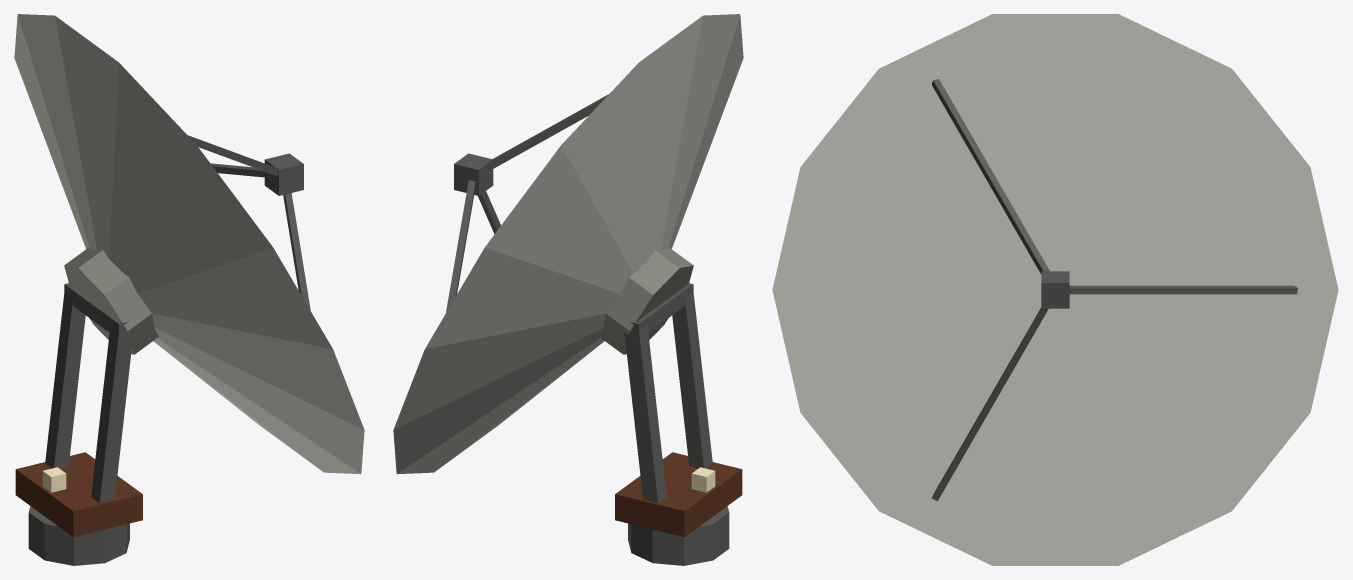
The model's file is radar_dish.glb.
3 renders of one model, left to right at view 1: azimuth 30°, elevation 25°; view 2: azimuth 150°, elevation 25°; view 3: azimuth 270°, elevation 25°, orthographic.
Visible parts, largest first — view 1: radar_dish; view 2: radar_dish; view 3: radar_dish.
Part boxes in pixels (<box>): radar_dish: <box>14,14,364,565</box>; radar_dish: <box>393,14,743,565</box>; radar_dish: <box>772,14,1338,565</box>.
Size of the model in its own units: 5.22 by 9.66 by 10.
